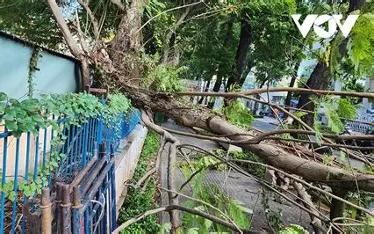ROAD_OBSTACLE: (24, 2, 374, 232)
